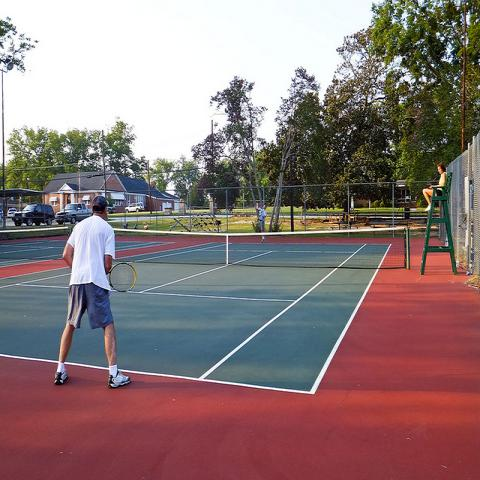car: (12, 203, 56, 227), (56, 204, 91, 225), (125, 203, 143, 212), (7, 208, 18, 218)
